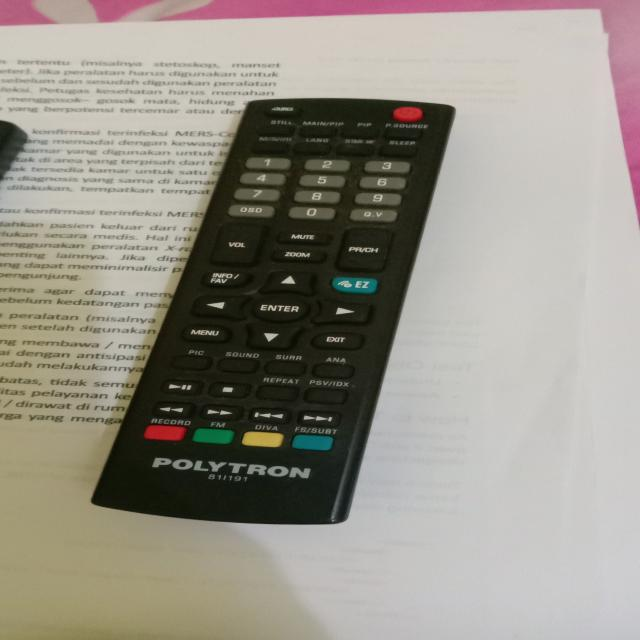remote: (85, 89, 466, 523)
